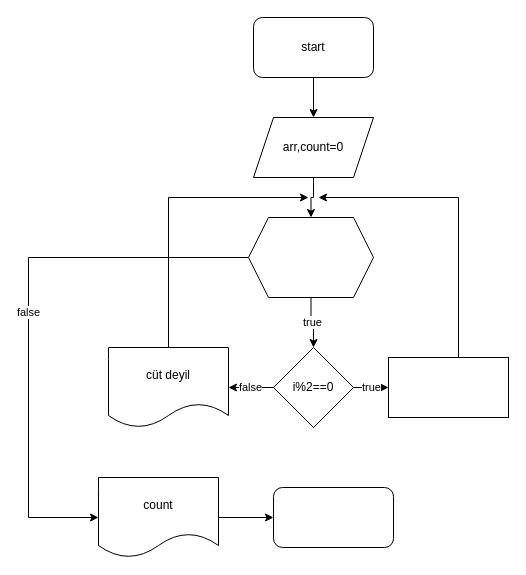
This 526x575 diagram has some shape labels left out. Each missing label, with the box of its shape:
count++: (388, 356, 508, 418)
end: (272, 486, 394, 548)
i=0,i<arr.length,i++: (248, 216, 374, 298)
